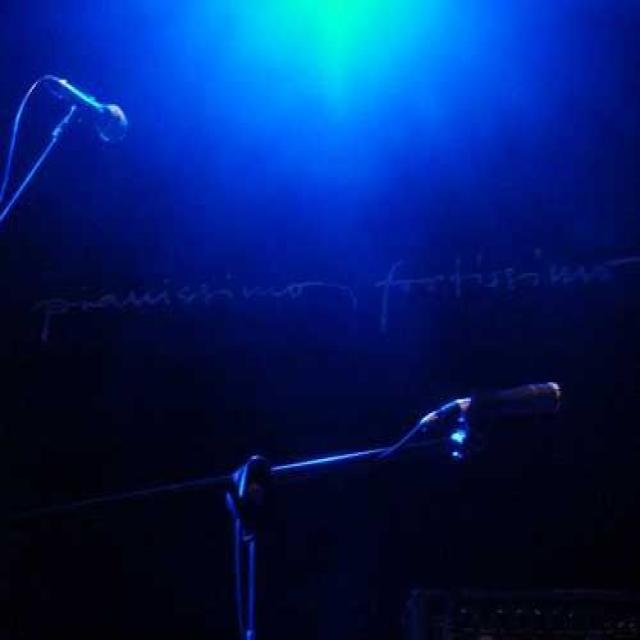microphone: (47, 74, 129, 143), (434, 380, 562, 423)
